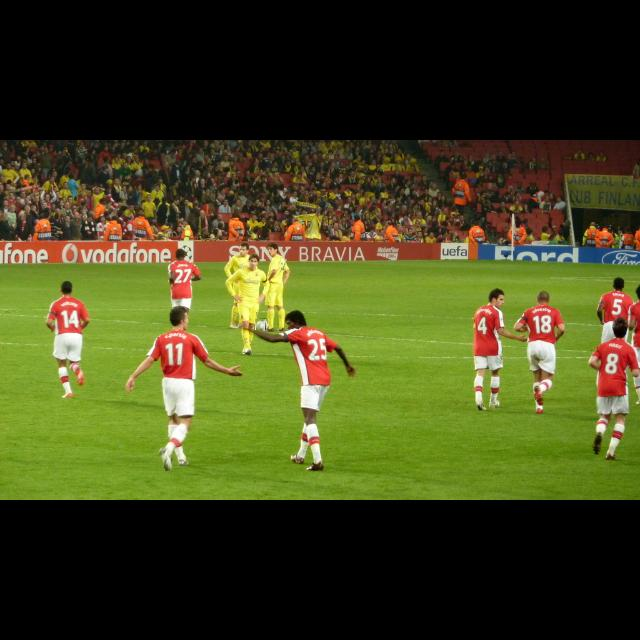Football: (256, 318, 266, 330)
